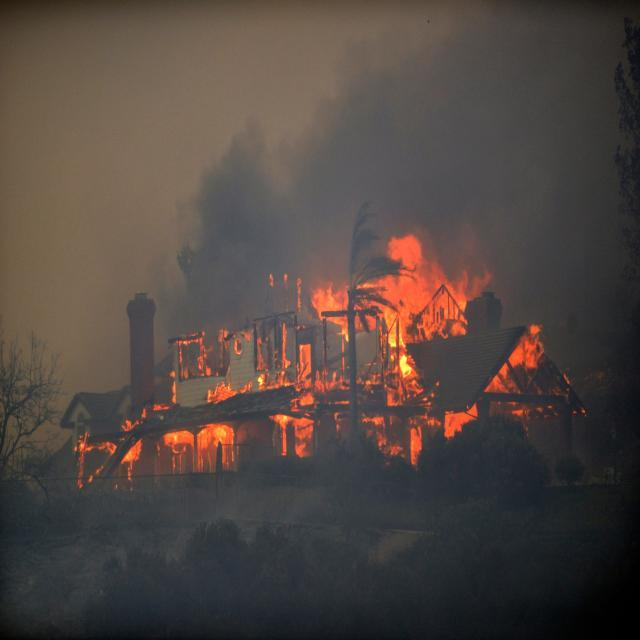Fire: (72, 218, 544, 494)
Smoke: (153, 0, 640, 374)
